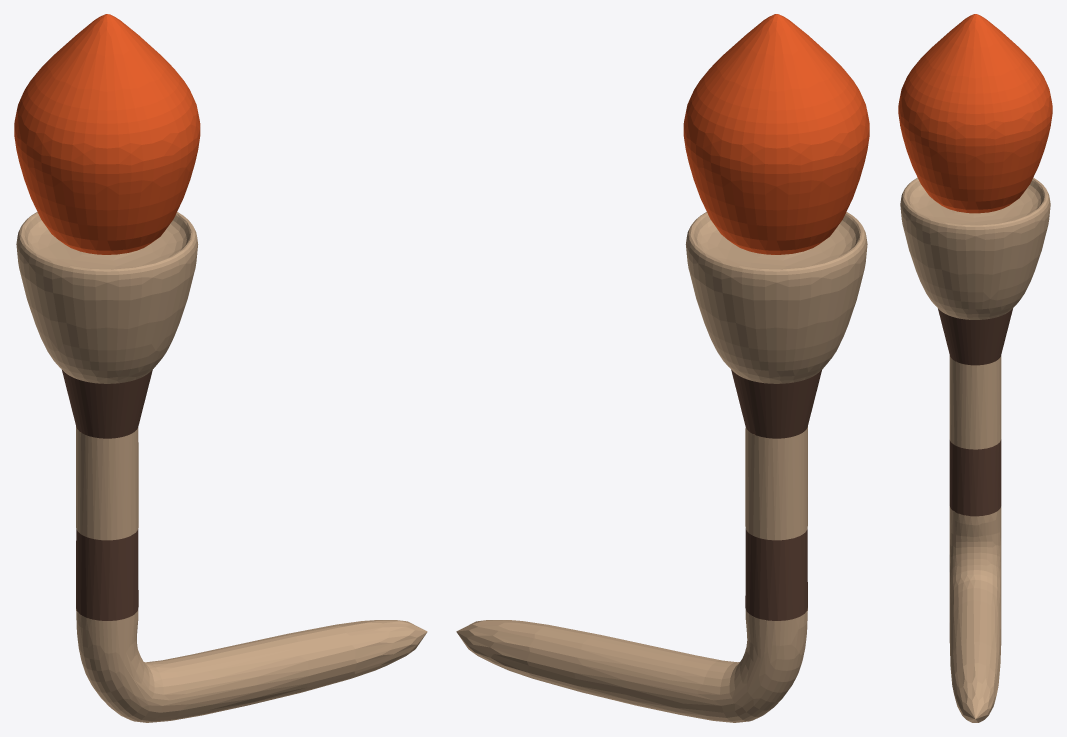
Rendered from tocha1.fbx.
3 renders of one model, left to right at view 1: azimuth 30°, elevation 25°; view 2: azimuth 150°, elevation 25°; view 3: azimuth 270°, elevation 25°, orthographic. The views are drawn at different scales.
Visible parts, largest first — view 1: fogo1; view 2: fogo1; view 3: fogo1.
Part boxes in pixels (bbox=[...]): fogo1: bbox=[14, 14, 427, 722]; fogo1: bbox=[456, 14, 869, 722]; fogo1: bbox=[898, 14, 1052, 722].
Size of the model in its own units: 103 by 177 by 41.39.
